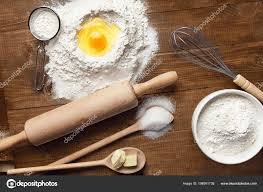Eggs: (84, 26, 115, 53)
